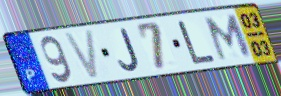7: (135, 20, 169, 73)
9: (39, 34, 74, 86)
J: (117, 26, 142, 73)
L: (176, 19, 219, 66)
M: (204, 13, 254, 63)
V: (61, 27, 102, 82)
